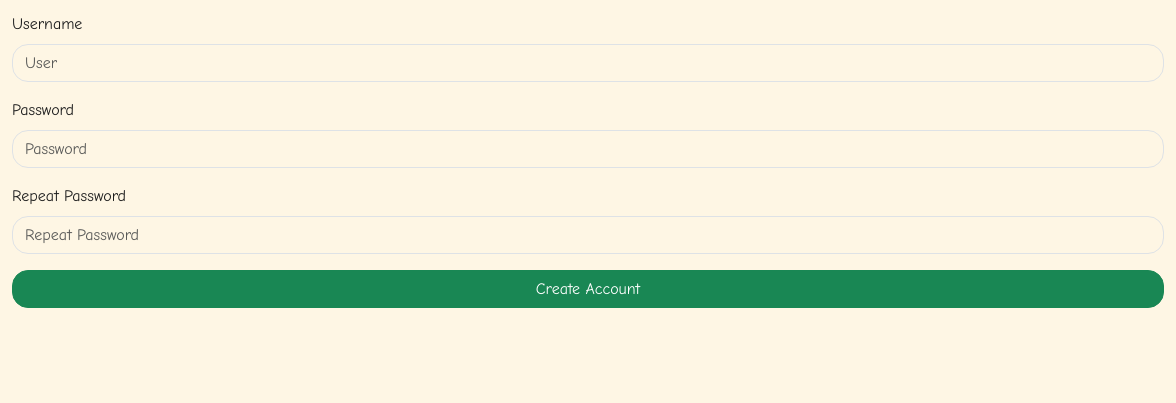
Test: CreateAccountForm › shows an error message if username is too short
Type "usr" into the field labelled "Username" at (588, 63), box x1=12 y1=44 x2=1164 y2=82
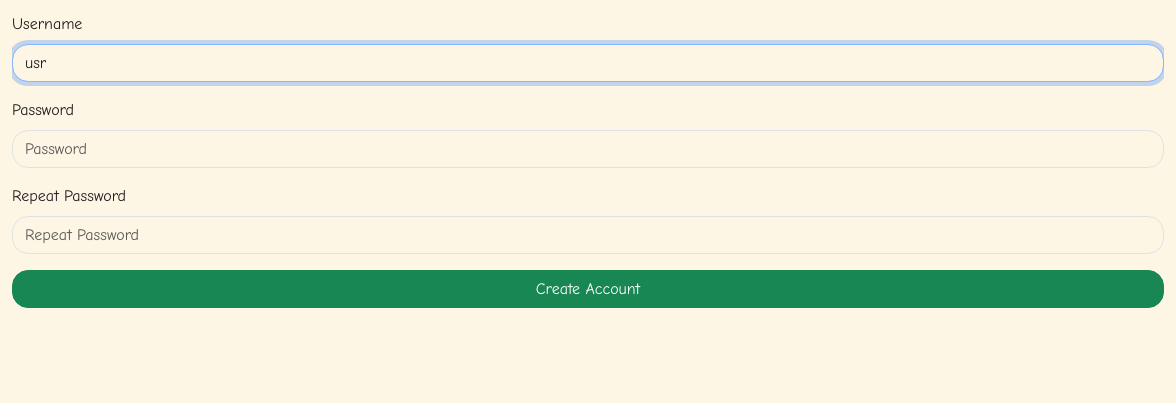
Type "password123" into the password field labelled "Password" at (588, 149), box x1=12 y1=130 x2=1164 y2=168
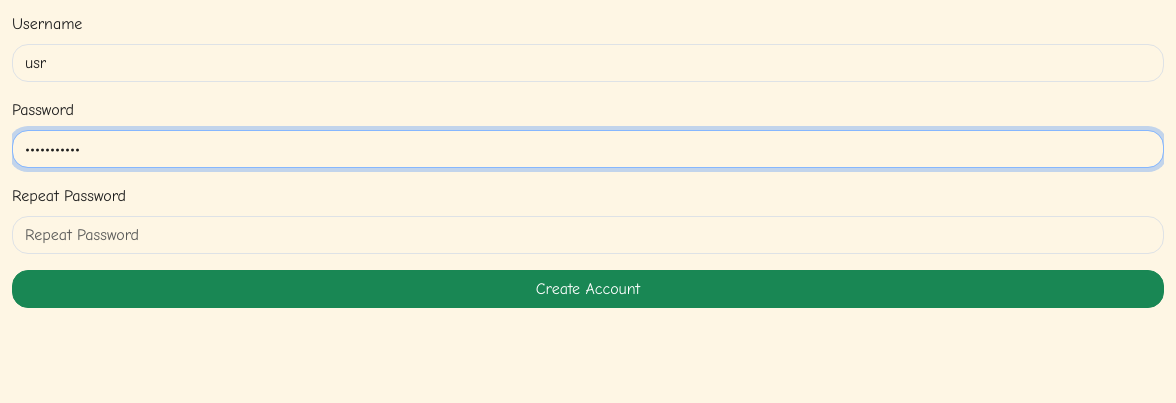
Type "password123" into the password field labelled "Repeat Password" at (588, 235), box x1=12 y1=216 x2=1164 y2=254
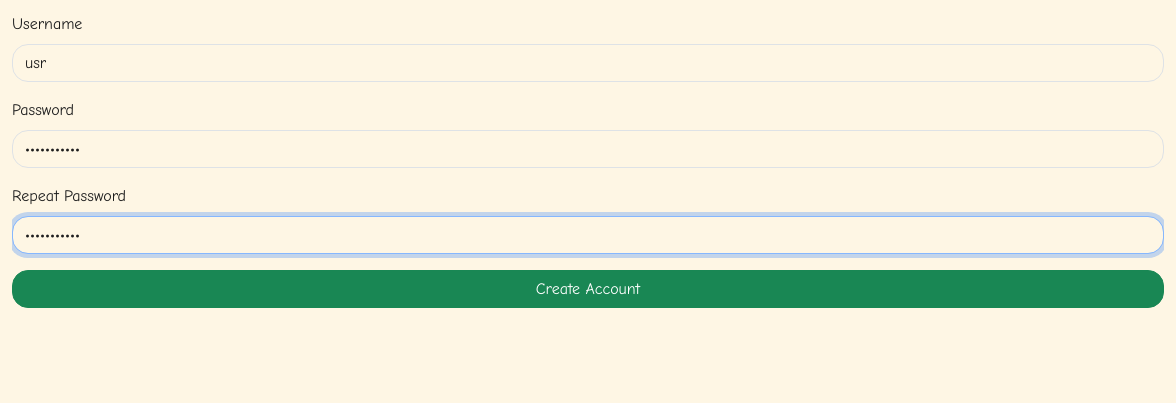
Click the button "Create Account" at (588, 289), box x1=12 y1=270 x2=1164 y2=308
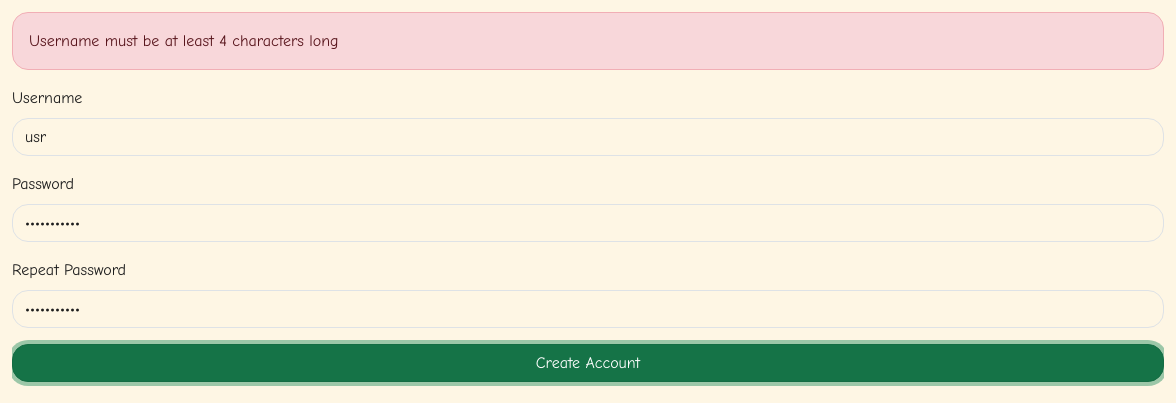
expect the text "Username must be at least 4 characters long" is shown: met, box x1=12 y1=12 x2=1164 y2=70
